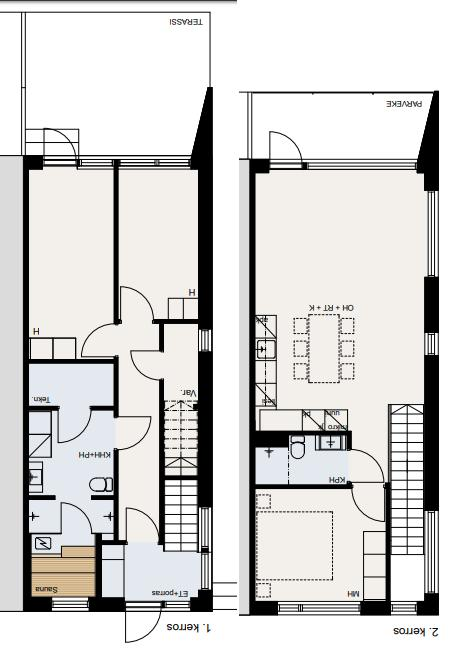bathroom: (25, 406, 112, 495), (289, 433, 347, 487)
door: (347, 480, 393, 526), (121, 600, 165, 644), (40, 127, 84, 169), (79, 321, 122, 363), (110, 413, 153, 455), (118, 282, 159, 326), (54, 403, 97, 444), (345, 447, 388, 488), (265, 127, 306, 170), (128, 345, 168, 385), (121, 504, 160, 545), (57, 499, 94, 534)
perimeter: (238, 156, 444, 616), (21, 154, 214, 613)
stairs: (163, 400, 200, 553), (389, 402, 426, 555)
window: (306, 155, 421, 178), (419, 507, 445, 601), (193, 502, 218, 593), (115, 150, 195, 176), (270, 598, 369, 619), (421, 186, 442, 284), (46, 596, 96, 616), (77, 151, 118, 174), (193, 325, 217, 356), (422, 329, 443, 361), (387, 598, 423, 616), (161, 599, 194, 615)
